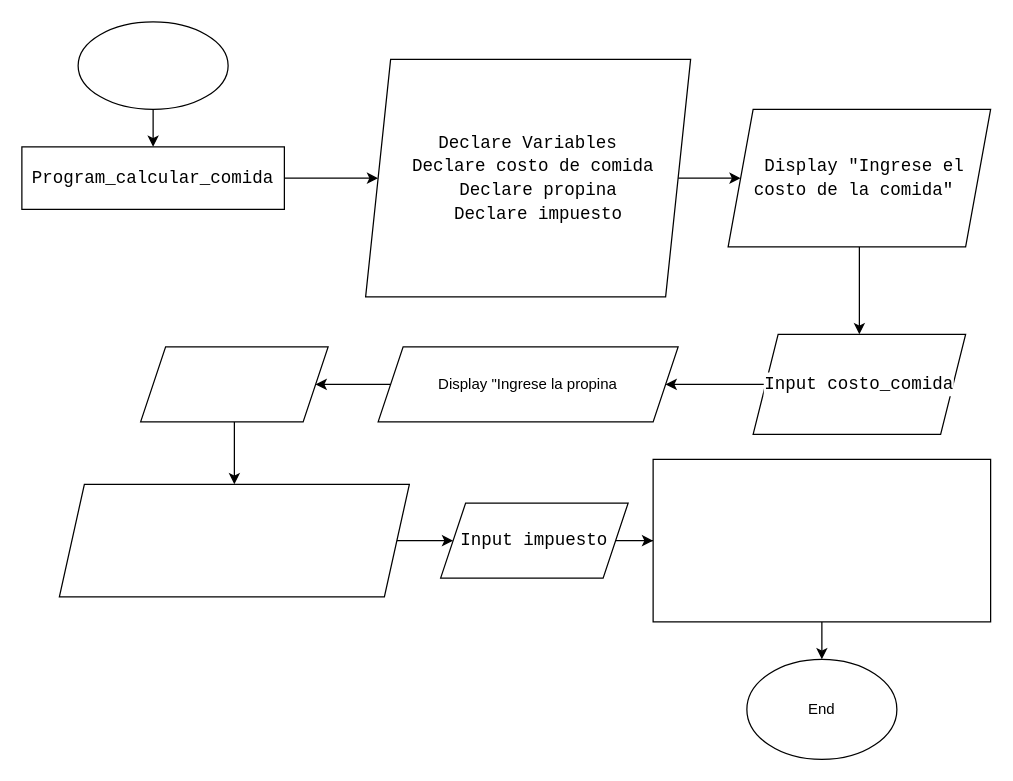
The diagram is 1013 pixels wide and 781 high, and some of its shapes have lost their labels. Here are the shapes that lost their labels. From the top down, the centre of each, then its label:
point 152,65: Start
point 233,384: Input propina
point 233,540: Display " Ingrese el impuesto "
point 821,540: Set " Calcular el total = costo_comida* valor de impuesto+ propina
